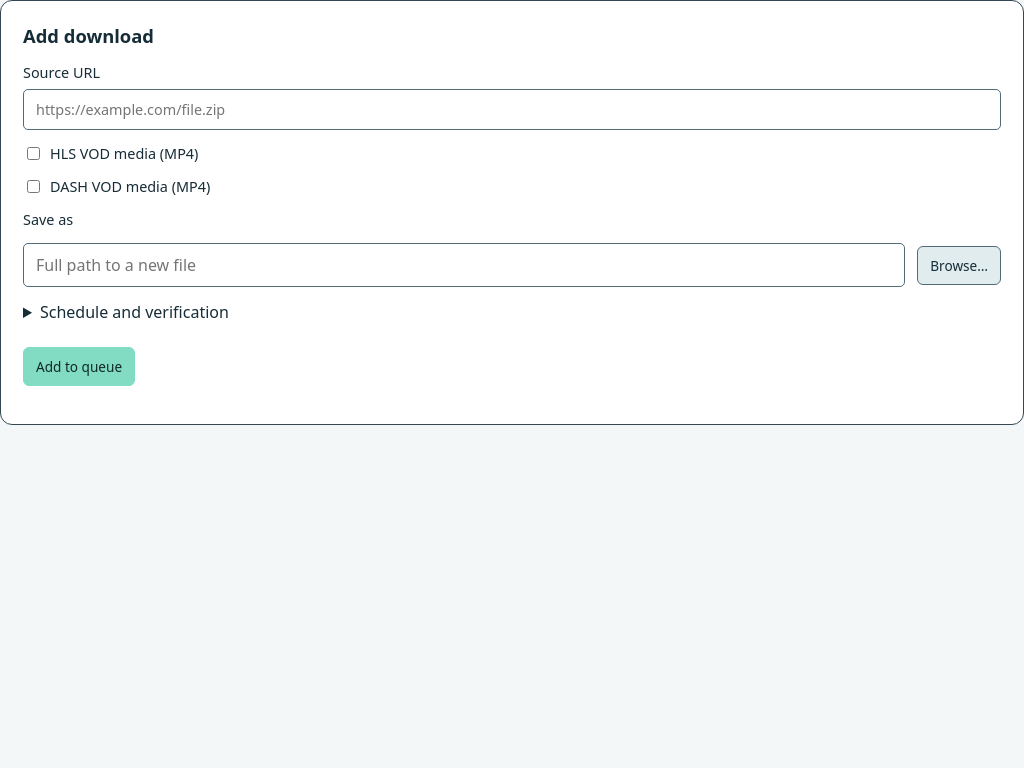
HLS errors retain browser fallback and changing source invalidates previous choices
The image size is (1024, 768).
Click the checkbox labelled "HLS VOD media (MP4)".
click(34, 154)  # box left=27, top=147, right=40, bottom=160
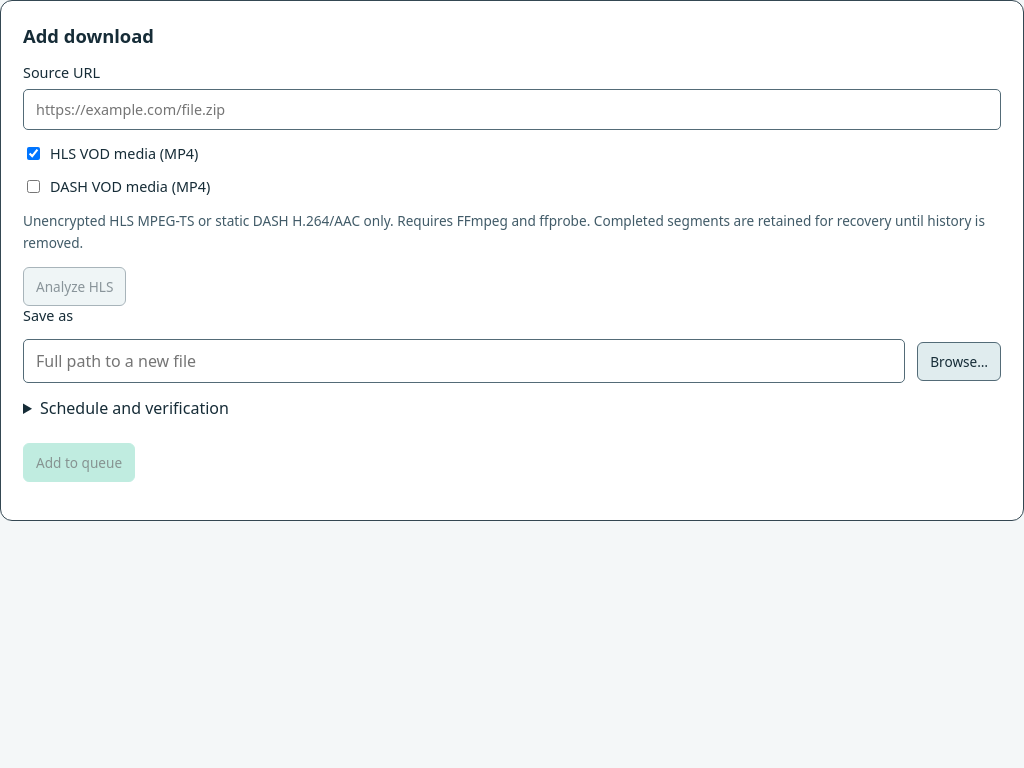
Type "https://example.com/unsupported" into the field labelled "Source URL".
click(512, 110); type("https://example.com/unsupported")  # box left=23, top=89, right=1001, bottom=130
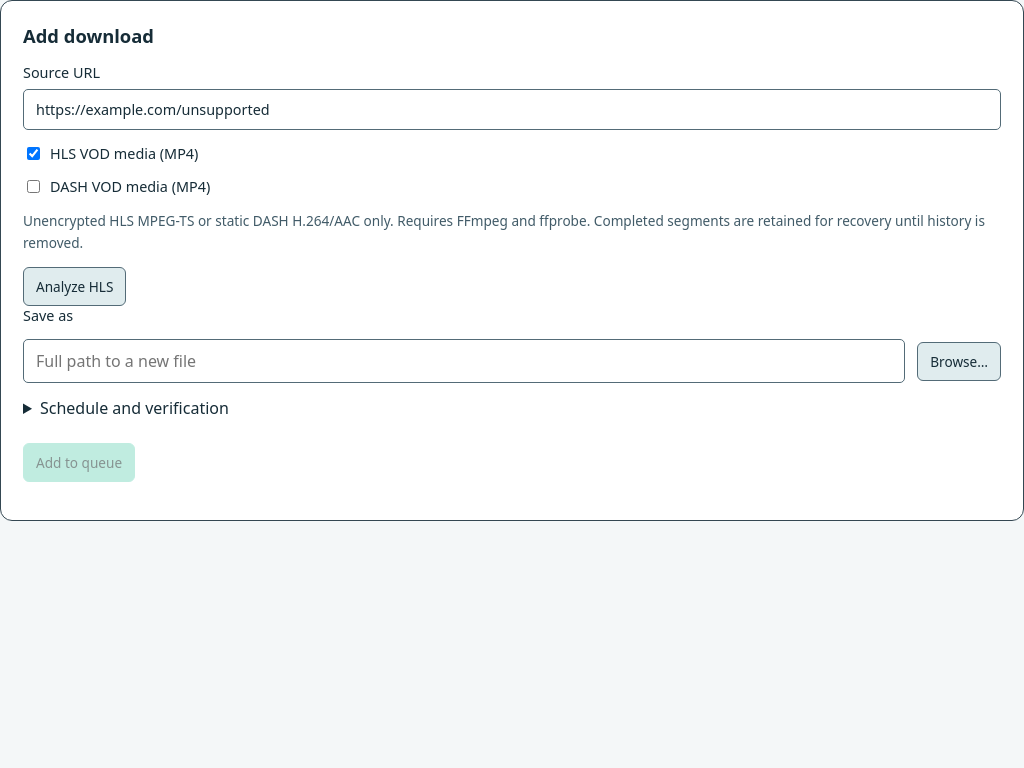
Click the button "Analyze HLS".
click(75, 287)  # box left=23, top=267, right=126, bottom=306
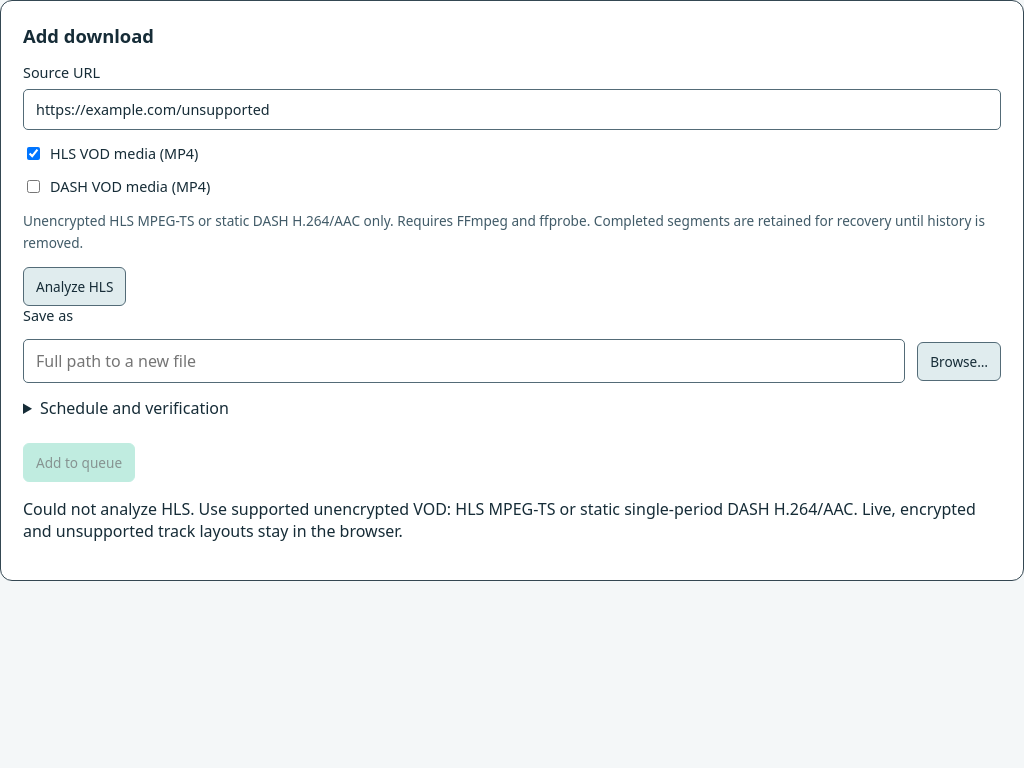
Expected: the button "Add to queue" is disabled, left=23, top=443, right=135, bottom=482
Expected: the text "Could not analyze HLS" is shown, left=23, top=498, right=976, bottom=542
Click the button "Analyze HLS".
click(75, 287)  # box left=23, top=267, right=126, bottom=306
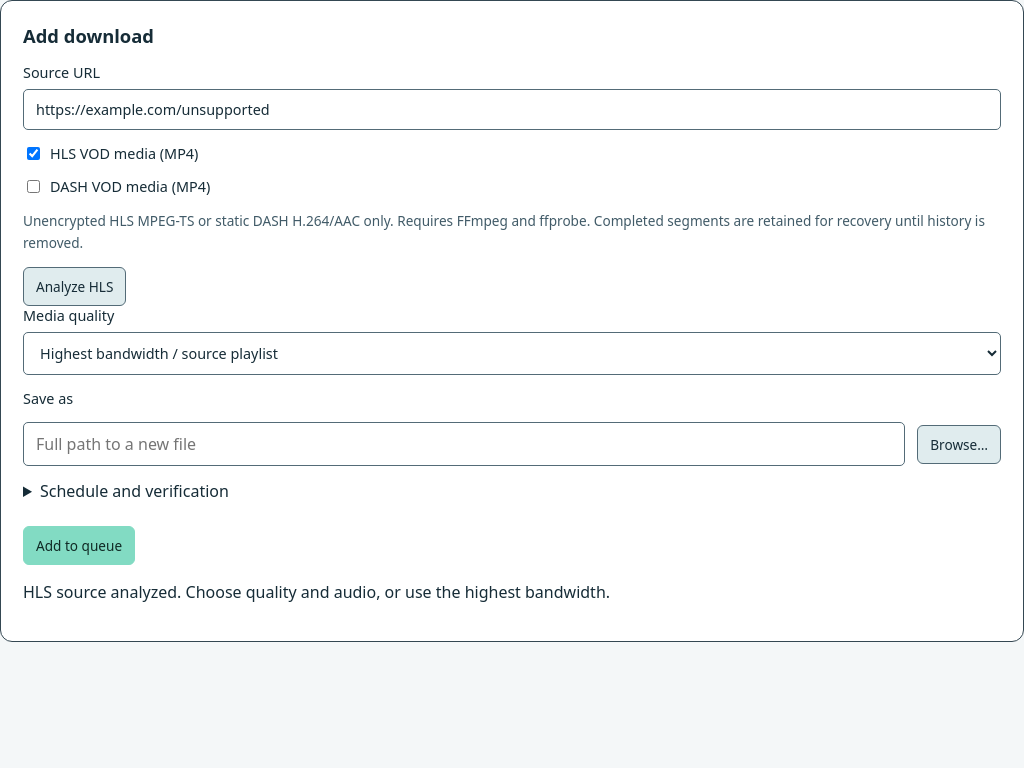
Expected: the dropdown labelled "Media quality" is shown, left=23, top=332, right=1001, bottom=375
Replace the text in the field labelled "Source URL" with "https://example.com/new.m3u8" at [512, 110], box left=23, top=89, right=1001, bottom=130
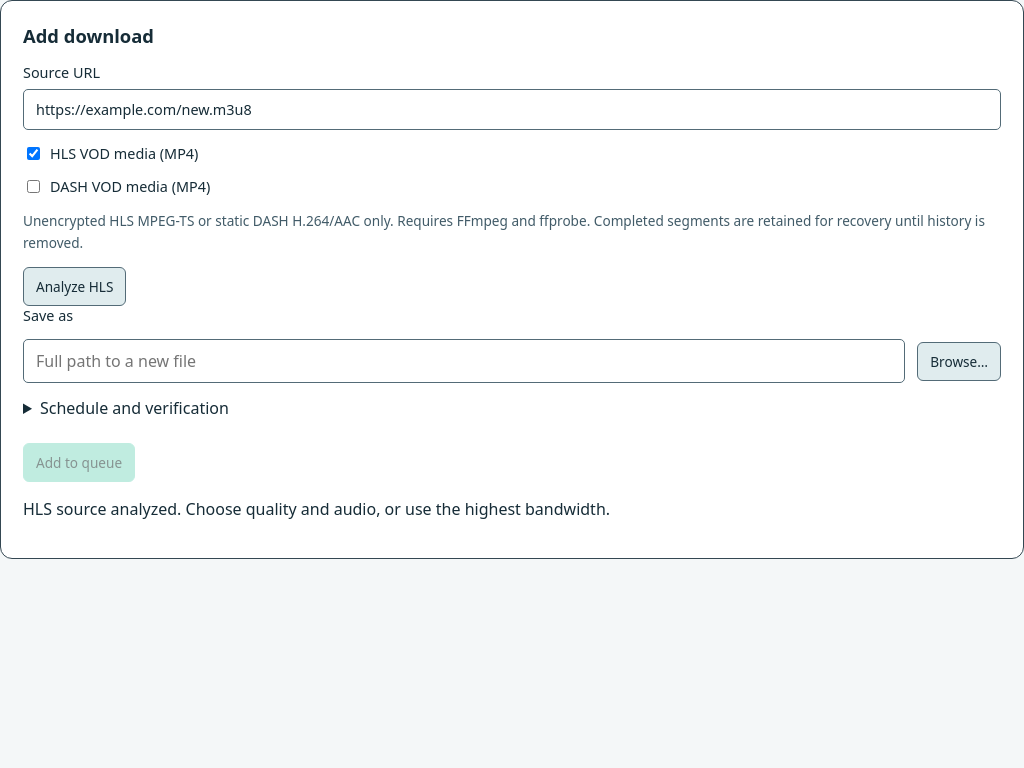
Expected: the label labelled "Media quality" is gone
Expected: the button "Add to queue" is disabled, left=23, top=443, right=135, bottom=482
